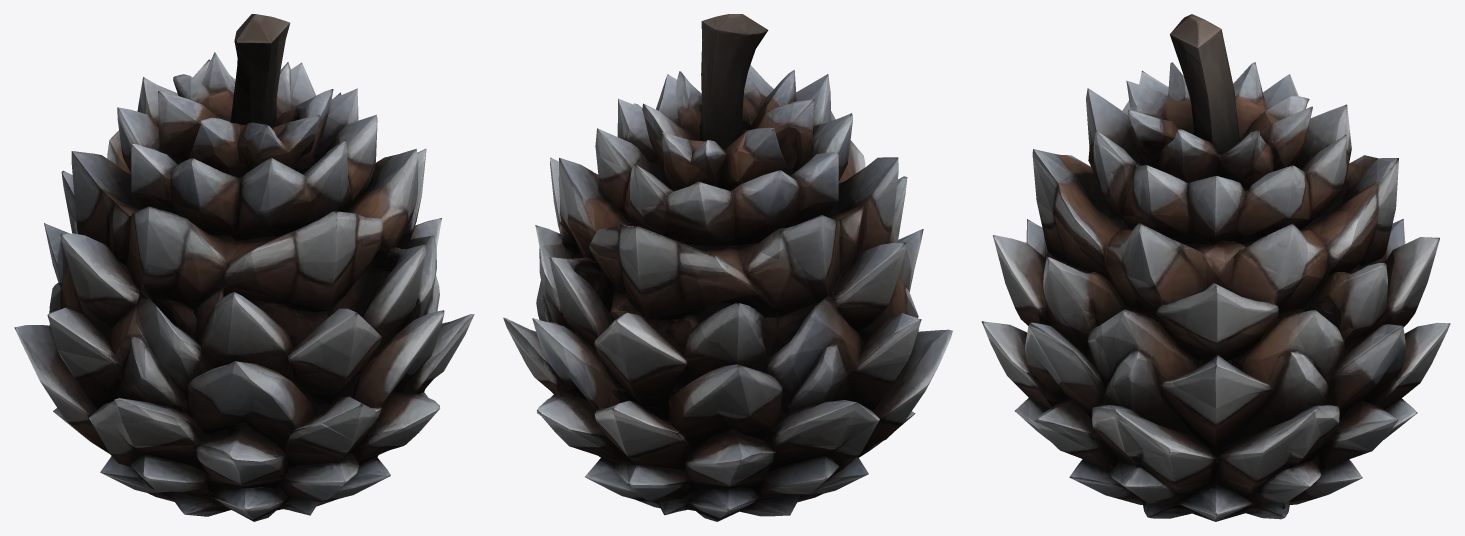
The model's file is pinecone.glb.
3 renders of one model, left to right at view 1: azimuth 30°, elevation 25°; view 2: azimuth 150°, elevation 25°; view 3: azimuth 270°, elevation 25°, orthographic. The views are drawn at different scales.
Visible parts, largest first — view 1: world; view 2: world; view 3: world.
Part boxes in pixels (<box>): world: <box>14,14,474,521</box>; world: <box>503,14,952,521</box>; world: <box>981,14,1450,521</box>.
Bounding box in the file's own units: 0.836 × 0.9965 × 0.8659.
1 material, 1 textured.
